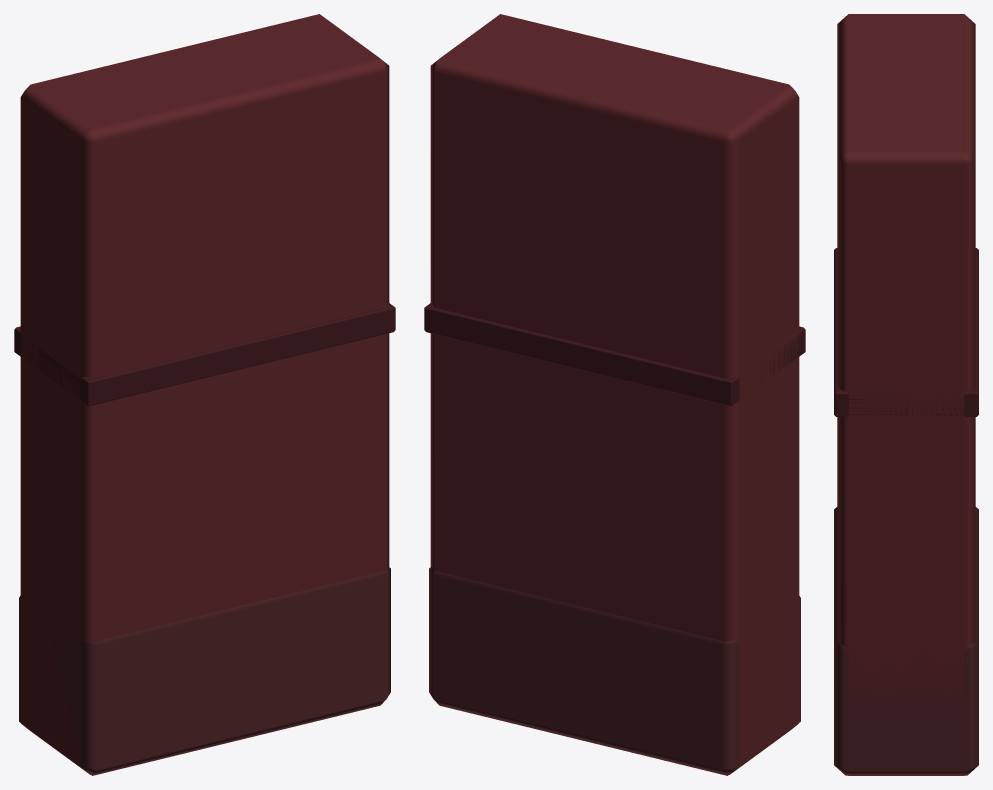
Rendered from living-cave-wall-outer.1046e19f.glb.
The picture shows the model from 3 angles, left to right: view 1: azimuth 30°, elevation 25°; view 2: azimuth 150°, elevation 25°; view 3: azimuth 270°, elevation 25°; orthographic projection. The views are drawn at different scales.
Parts seen in each view (by area): view 1: body; view 2: body; view 3: body.
Part boxes in pixels (bbox=[...]): body: bbox=[14, 14, 395, 775]; body: bbox=[424, 14, 805, 775]; body: bbox=[834, 14, 978, 775].
Bounding box in the file's own units: 1 × 2 × 0.42.
